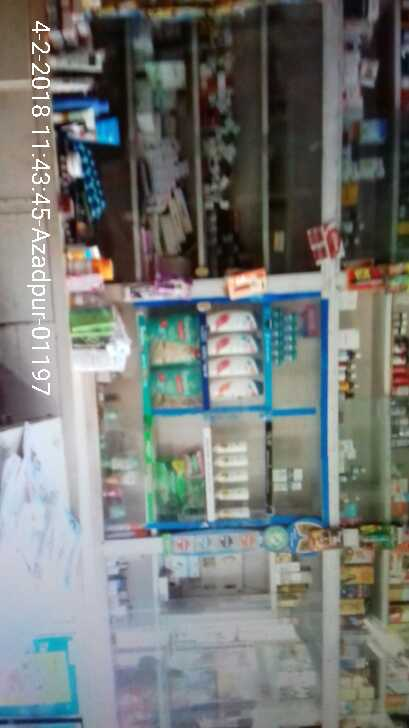vicks: (272, 307, 301, 372)
